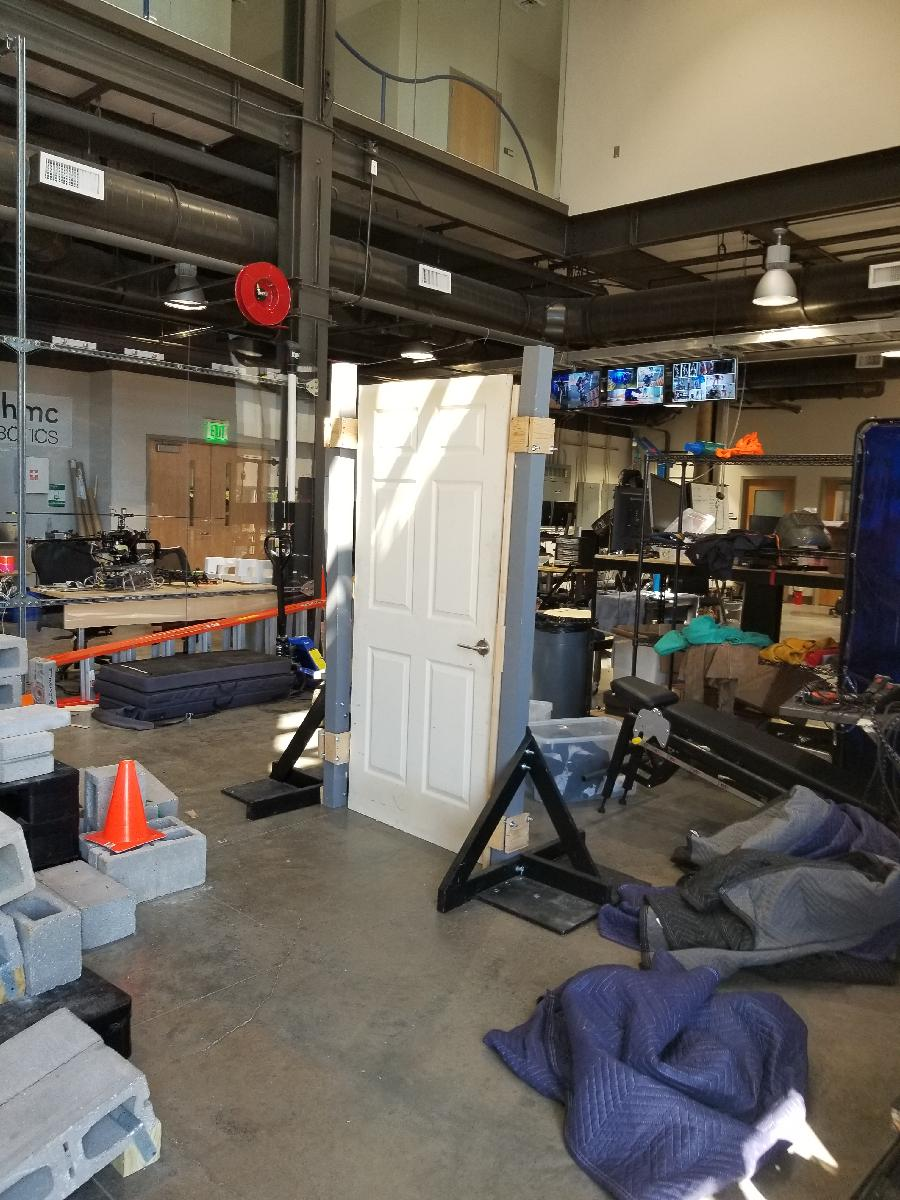door: (346, 372, 515, 872)
doorHandle: (454, 635, 495, 668)
